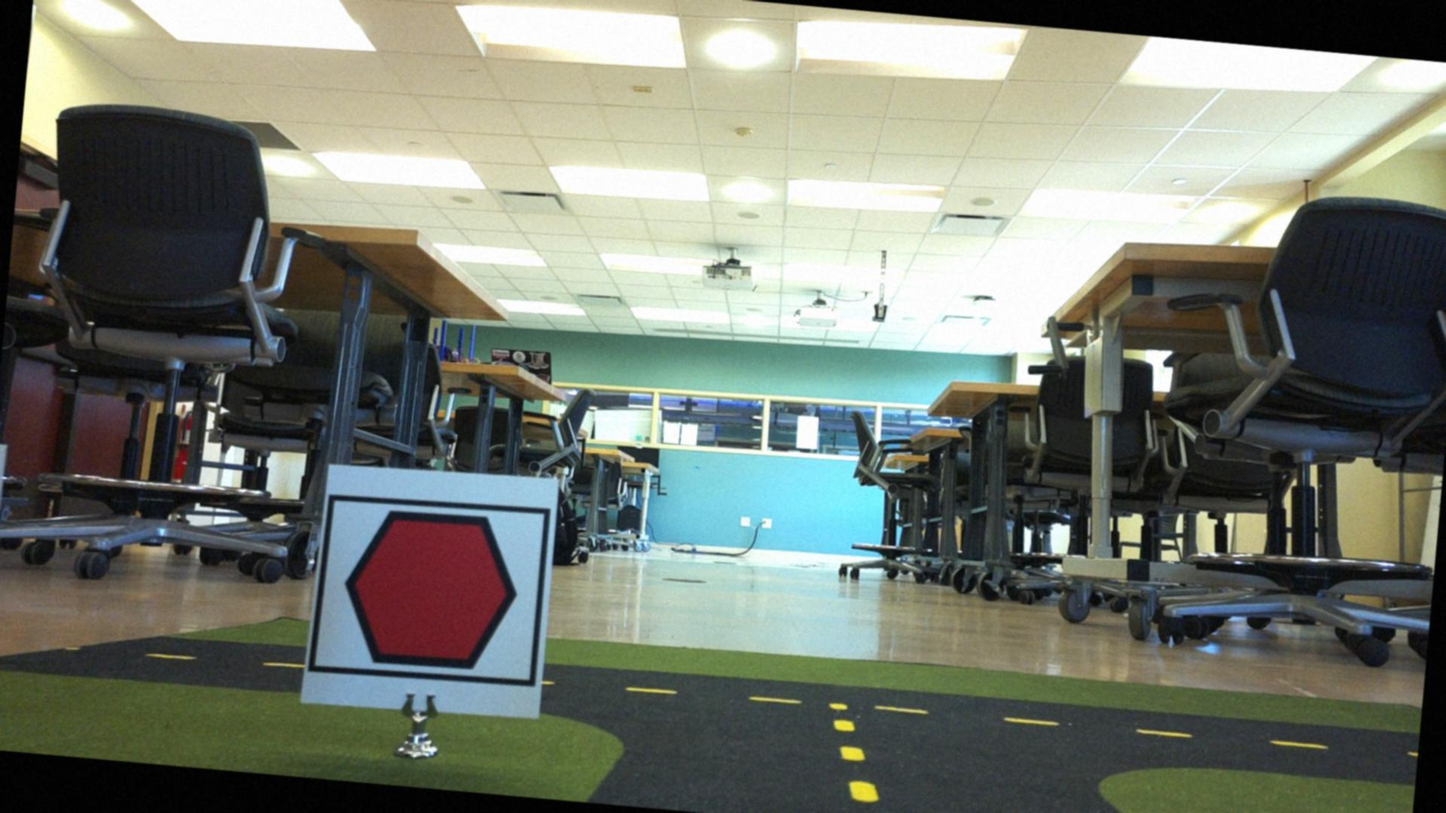stop: (324, 497, 538, 683)
yellowline: (823, 698, 886, 808)
